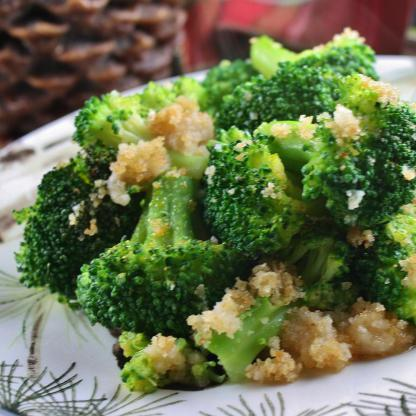broccoli: (13, 26, 416, 396)
